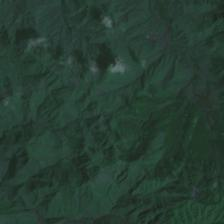landslides: (118, 209, 165, 224), (72, 163, 89, 182), (135, 204, 157, 218), (120, 204, 138, 217), (92, 214, 113, 224), (75, 187, 86, 204), (0, 187, 10, 201), (13, 202, 26, 212), (83, 181, 96, 191), (0, 40, 12, 50), (105, 177, 115, 188), (6, 151, 15, 163), (64, 113, 76, 122)
